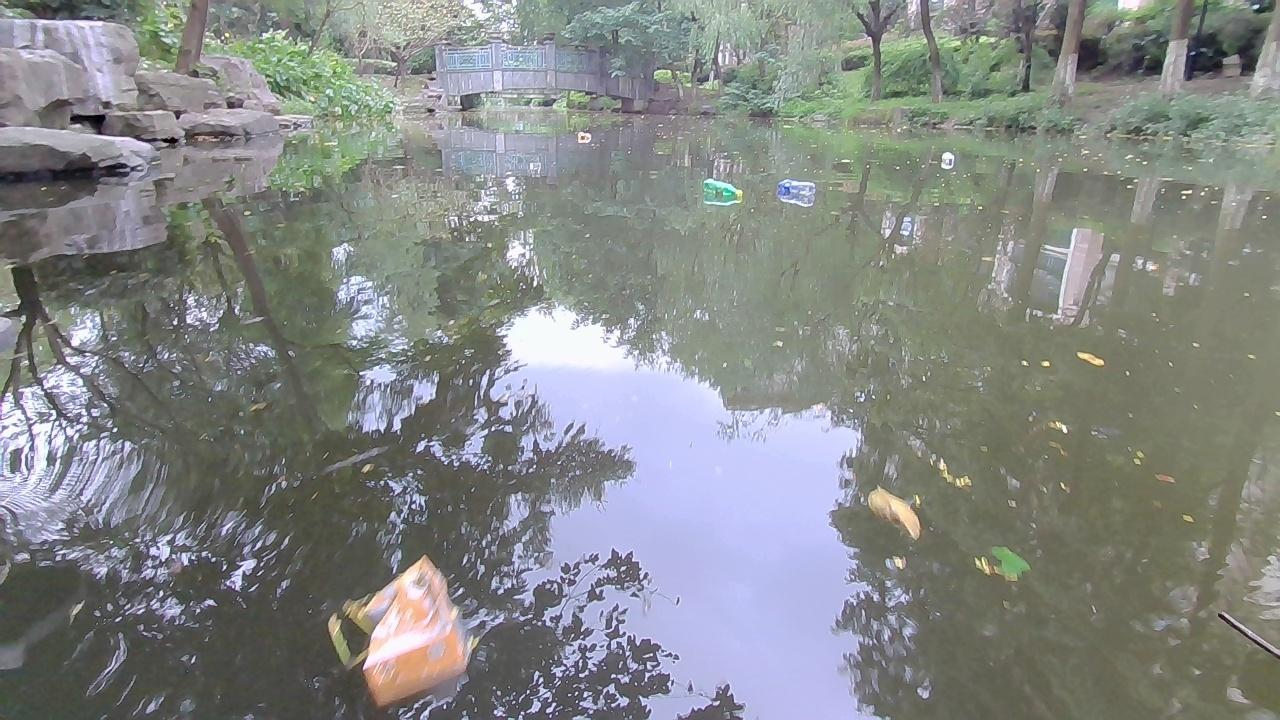bottle: (352, 549, 463, 705), (698, 175, 742, 199), (773, 177, 818, 192), (939, 150, 954, 165), (575, 130, 591, 139)
